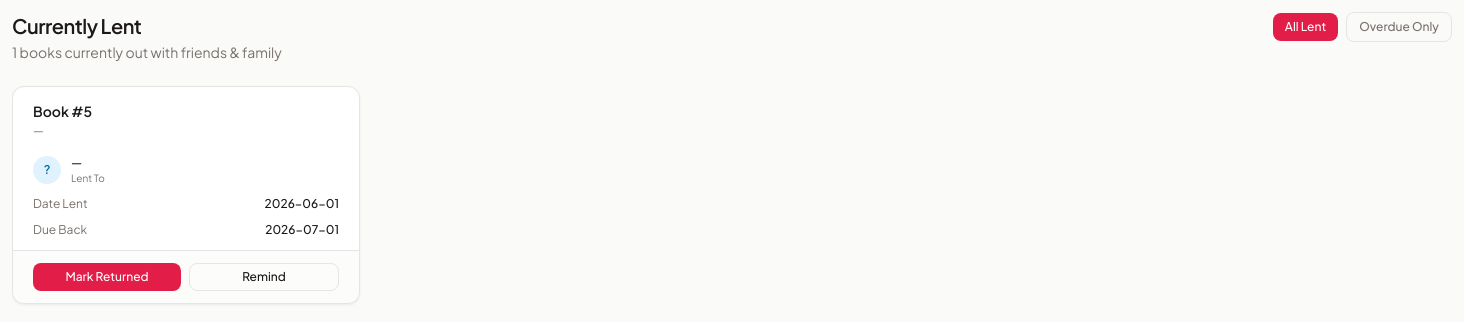
LentPage › shows overdue-specific empty state when overdue filter active and no overdue items
Expected: the text "Book #5" is shown, left=33, top=102, right=92, bottom=120
Click the button "Overdue Only".
click(1399, 27)  # box left=1346, top=12, right=1452, bottom=42
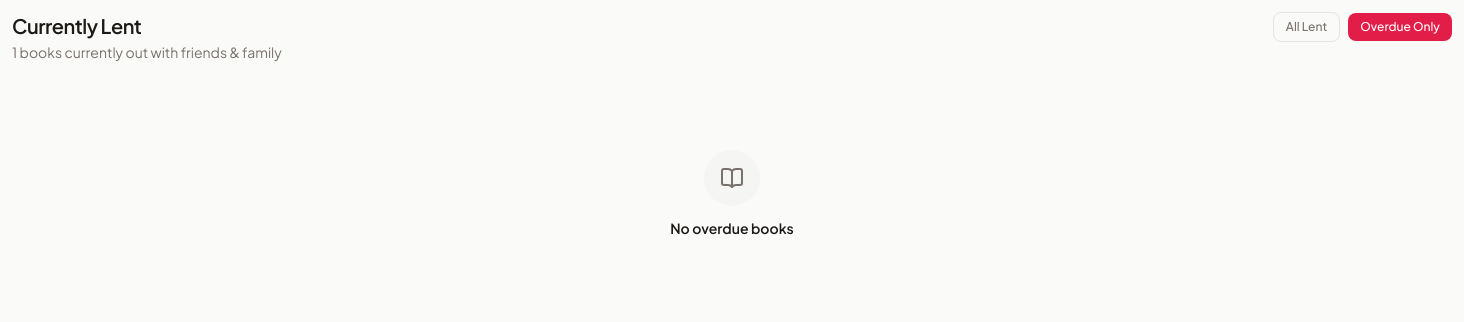
Now the heading "No overdue books" is shown, box left=670, top=218, right=794, bottom=238
